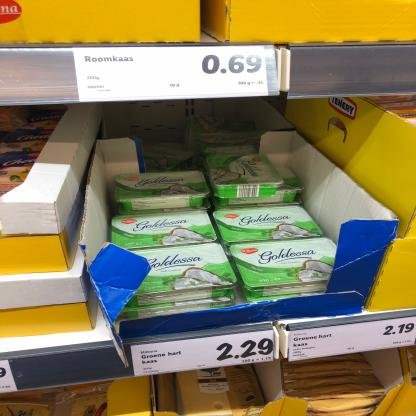prtg: (74, 47, 270, 103), (131, 331, 275, 377), (290, 317, 415, 362), (1, 361, 19, 394)
